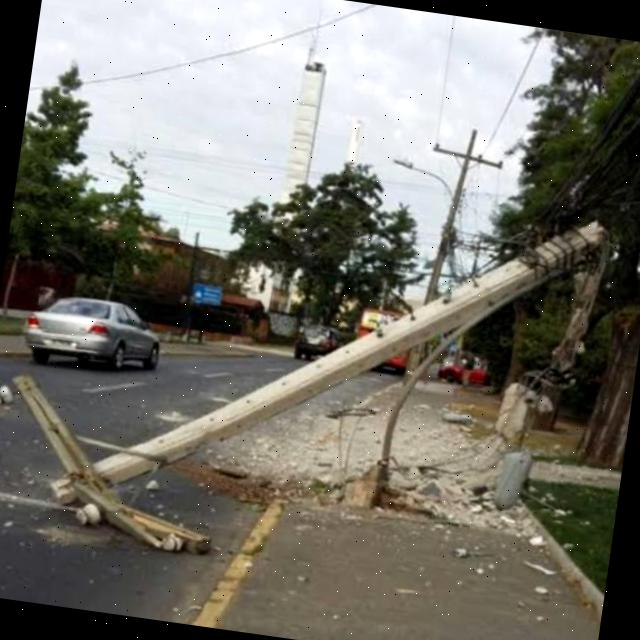Broken Pole: (0, 217, 607, 563)
